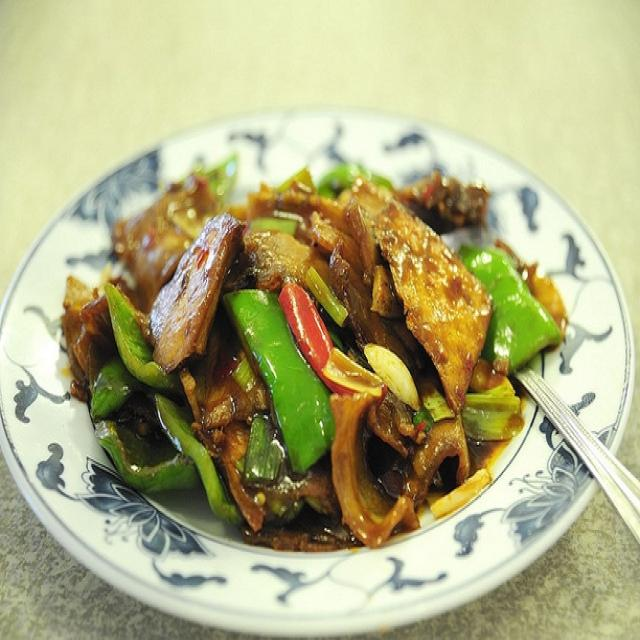猪肉菜式: (14, 74, 621, 626)
